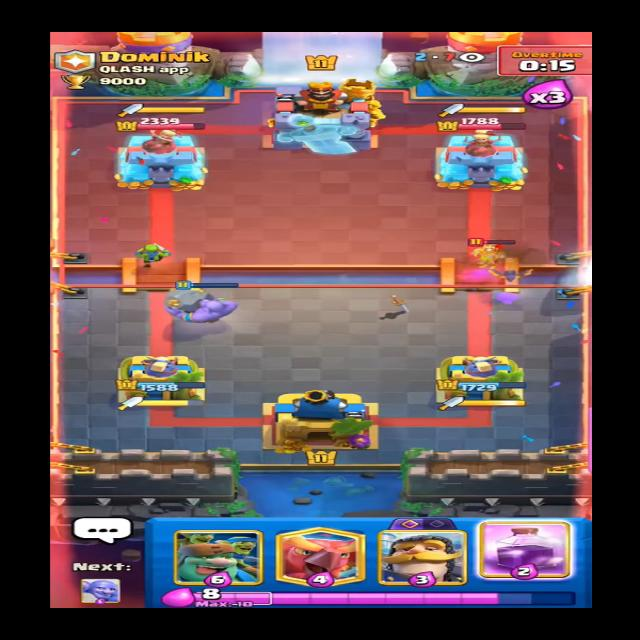Wizard: (465, 232, 531, 268)
